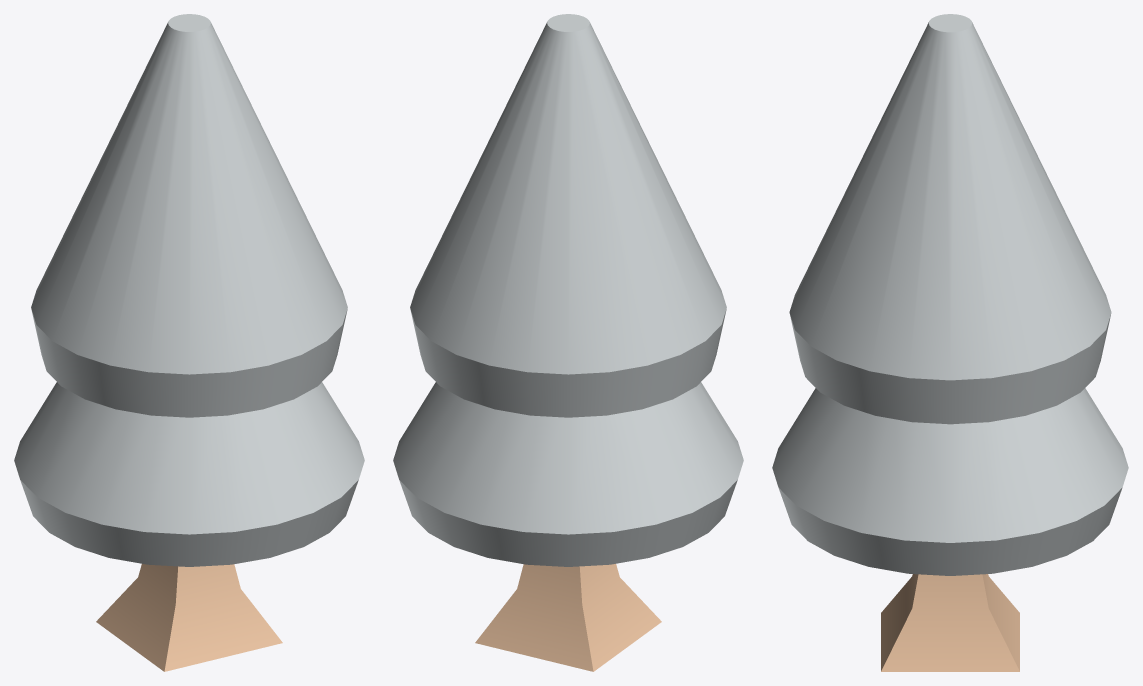
3 views of the same model, side by side, from view 1: azimuth 30°, elevation 25°; view 2: azimuth 150°, elevation 25°; view 3: azimuth 270°, elevation 25° (orthographic).
Parts seen in each view (by area): view 1: treePineSmallSnow; view 2: treePineSmallSnow; view 3: treePineSmallSnow.
Part boxes in pixels (x1=…): treePineSmallSnow: x1=14, y1=14, x2=364, y2=671; treePineSmallSnow: x1=393, y1=14, x2=743, y2=671; treePineSmallSnow: x1=772, y1=14, x2=1128, y2=671.
Bounding box in the file's own units: 0.7114 × 1.36 × 0.7114.
